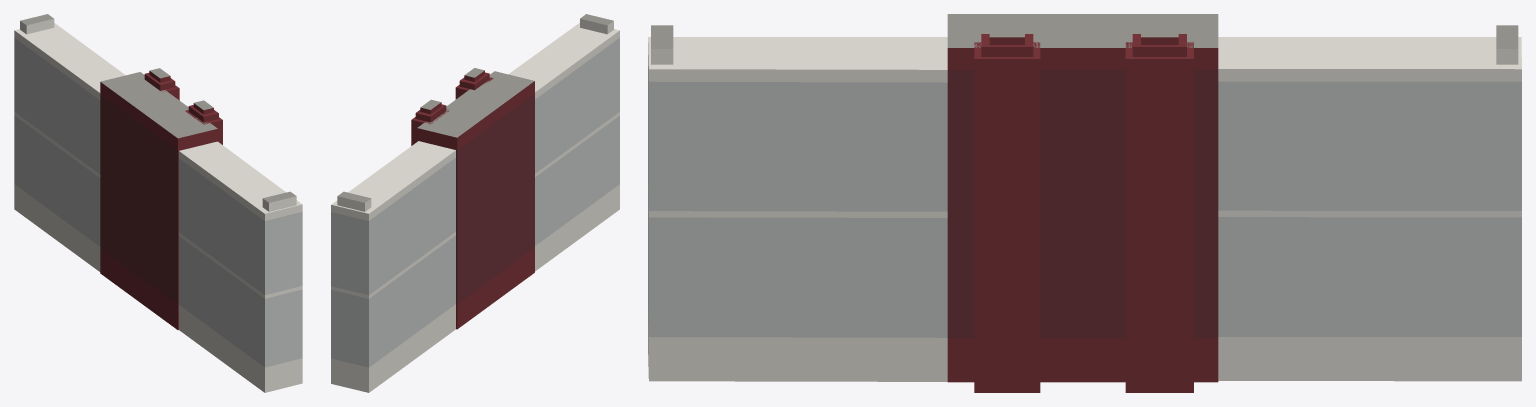
File: hilton_grand_vacations_w115768623.glb
The picture shows the model from 3 angles, left to right: view 1: azimuth 30°, elevation 25°; view 2: azimuth 150°, elevation 25°; view 3: azimuth 270°, elevation 25°; orthographic projection. The views are drawn at different scales.
Visible parts, largest first — view 1: Tower_w115768623; view 2: Tower_w115768623; view 3: Tower_w115768623.
Part boxes in pixels (x1,y1,x2,y2): Tower_w115768623: [14, 14, 302, 392]; Tower_w115768623: [331, 14, 619, 392]; Tower_w115768623: [648, 14, 1521, 392].
Size of the model in its own units: 15.25 by 55.8 by 126.
